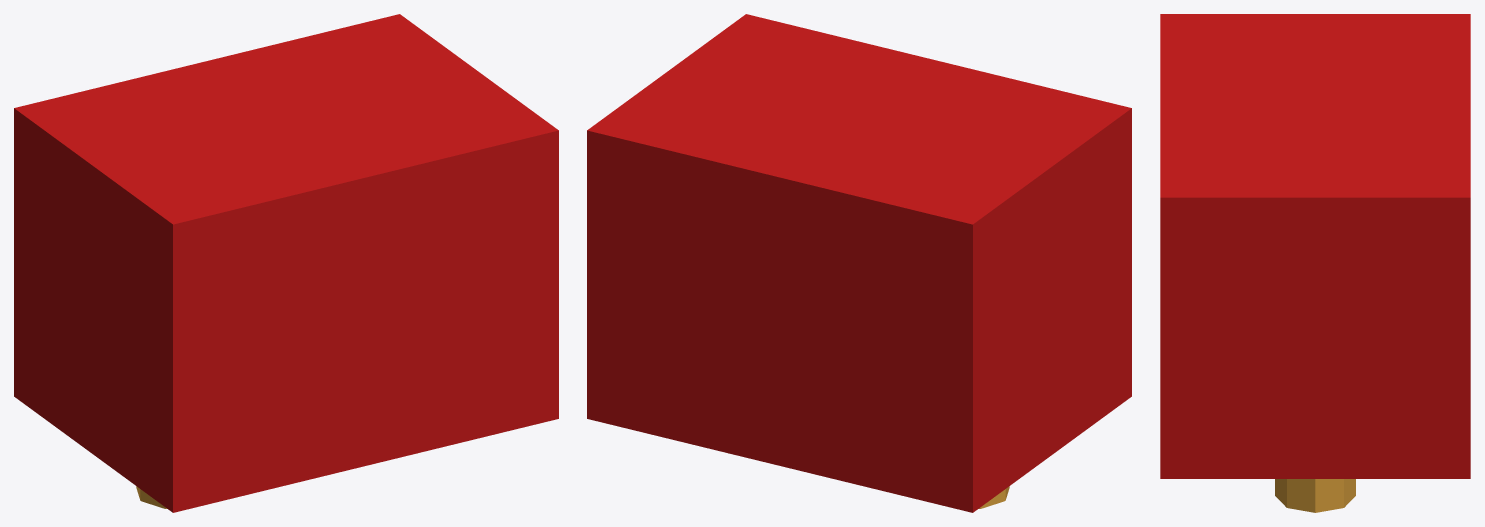
Rendered from 106_L108_W157_DiagnosticTrustJumper.fbx.
3 views of the same model, side by side, from view 1: azimuth 30°, elevation 25°; view 2: azimuth 150°, elevation 25°; view 3: azimuth 270°, elevation 25° (orthographic). The views are drawn at different scales.
Parts seen in each view (by area): view 1: 106_L106_W141_000; view 2: 106_L106_W141_000; view 3: 106_L106_W141_000, 106_L106_W141_002.
Part boxes in pixels (box(x1,y1,x2,y2)): 106_L106_W141_000: box(14, 14, 558, 512); 106_L106_W141_000: box(587, 14, 1131, 512); 106_L106_W141_000: box(1160, 14, 1470, 478); 106_L106_W141_002: box(1275, 479, 1355, 512).
Bounding box in the file's own units: 0.007 × 0.005 × 0.006.
